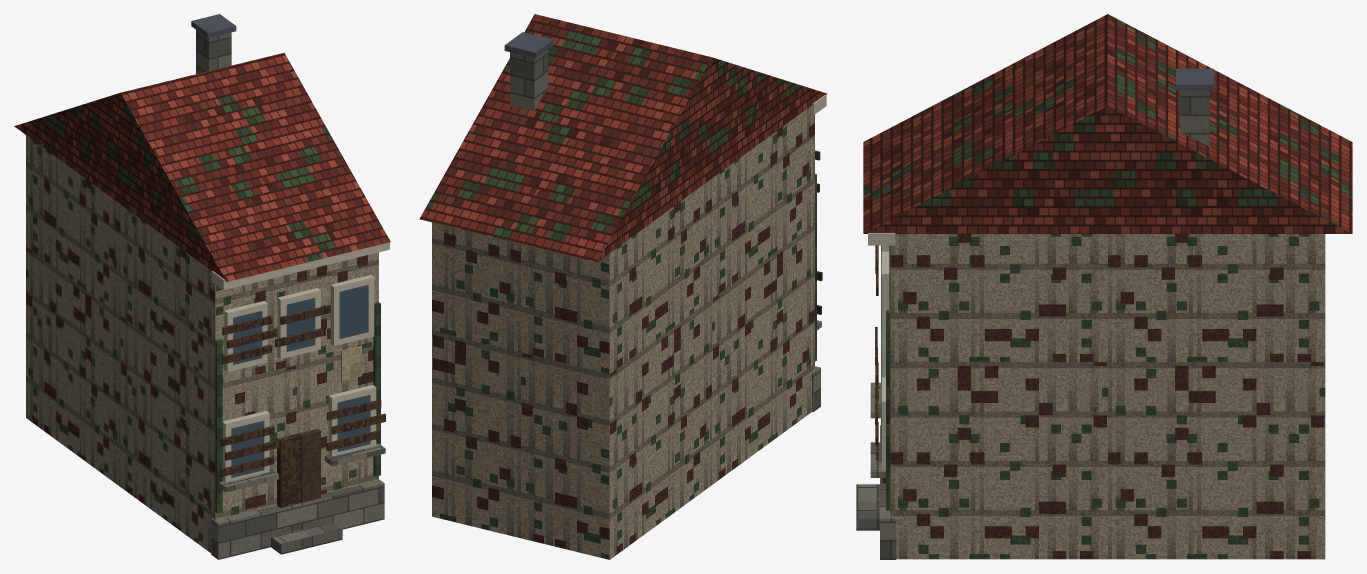
File: ENV_C_Facade_5.fbx
The picture shows the model from 3 angles, left to right: view 1: azimuth 30°, elevation 25°; view 2: azimuth 150°, elevation 25°; view 3: azimuth 270°, elevation 25°; orthographic projection. The views are drawn at different scales.
Parts seen in each view (by area): view 1: ENV_C_Facade_5; view 2: ENV_C_Facade_5; view 3: ENV_C_Facade_5.
Part boxes in pixels (<box>): ENV_C_Facade_5: <box>14,14,390,559</box>; ENV_C_Facade_5: <box>419,14,827,559</box>; ENV_C_Facade_5: <box>856,14,1352,559</box>.
Size of the model in its own units: 406 by 942 by 913.
10 materials, 7 textured.
